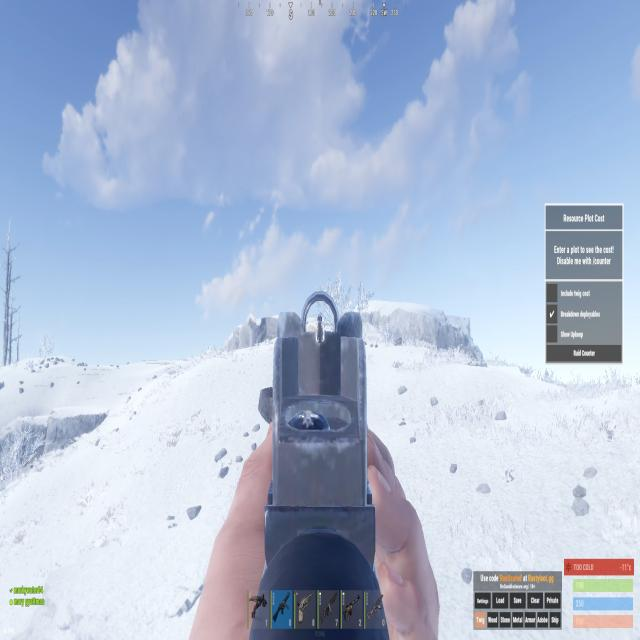Player: (317, 312, 323, 343)
